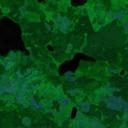alloviz: (1, 16, 29, 58), (57, 52, 95, 75), (69, 1, 86, 7), (69, 106, 77, 118), (46, 44, 54, 52)
